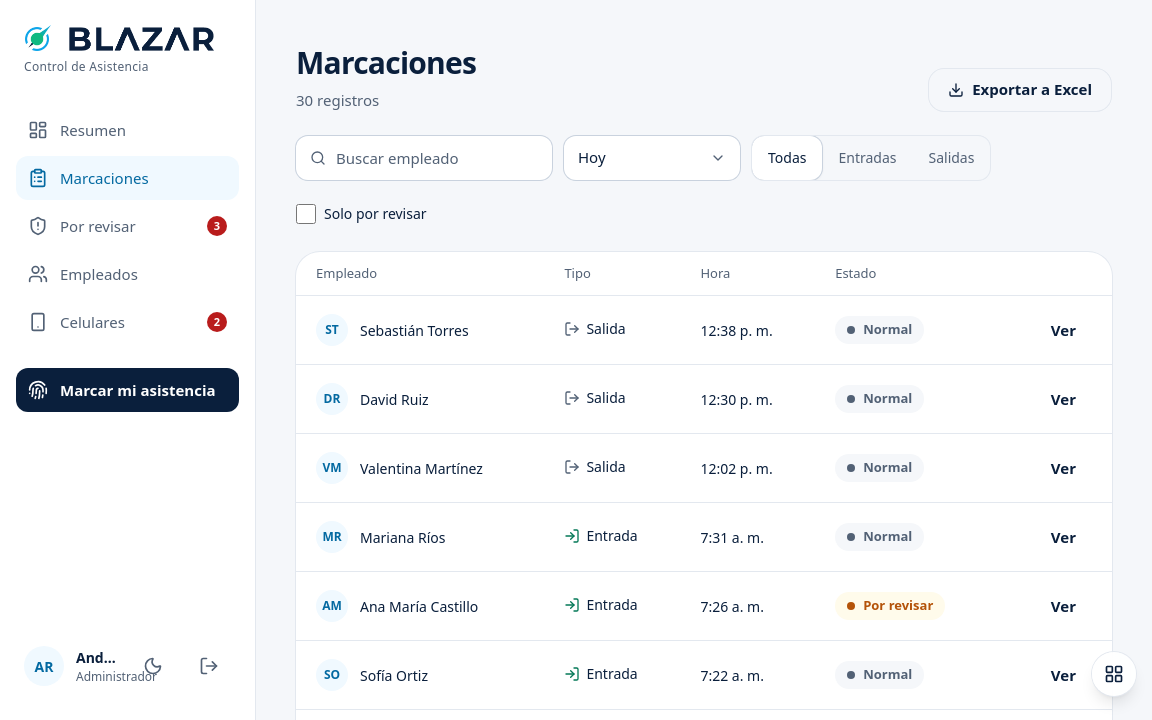
Test: Marcaciones › filtra solo las marcaciones por revisar
The width and height of the screenshot is (1152, 720).
Check: the heading "Marcaciones" is shown, box top-left (296, 40), bottom-right (476, 85)
What coordinates should you click on to do the following:
click the checkbox labelled "Solo por revisar"
I would click on:
 (306, 214)
Its box is top-left (296, 204), bottom-right (316, 224).
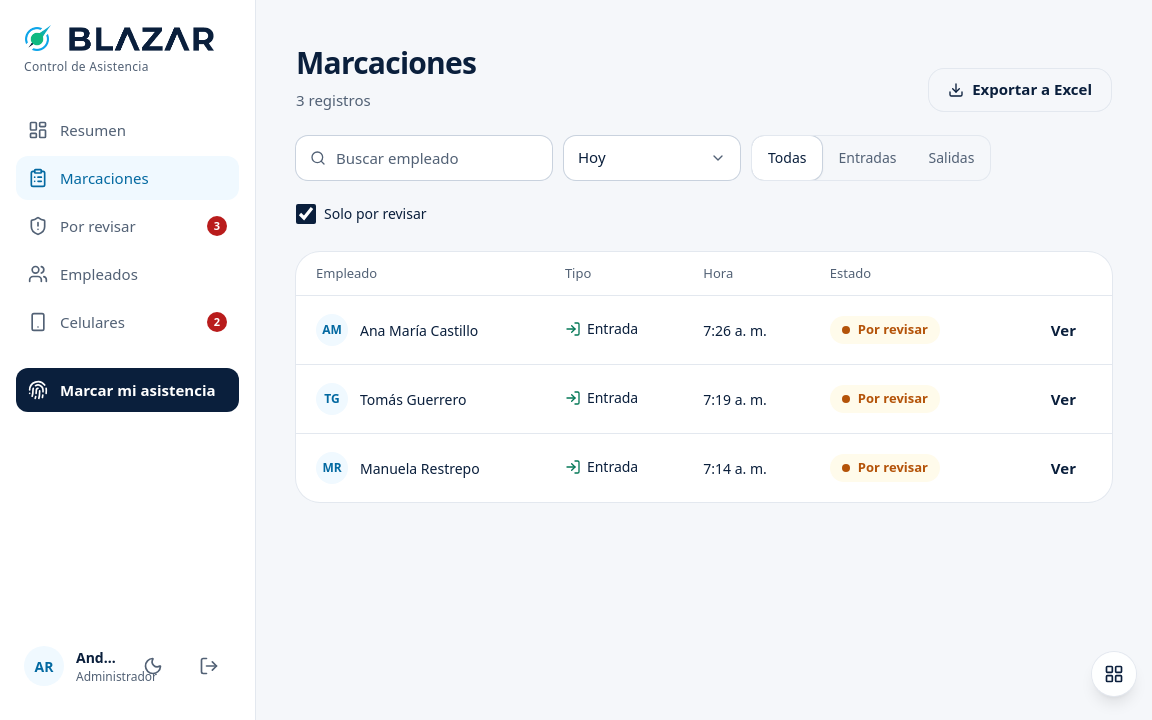
Check: the text "3 registros" is shown, box top-left (296, 90), bottom-right (371, 110)
